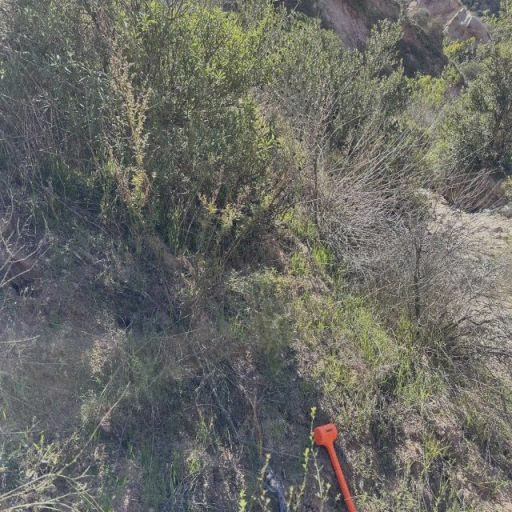mallet: (310, 422, 358, 512)
